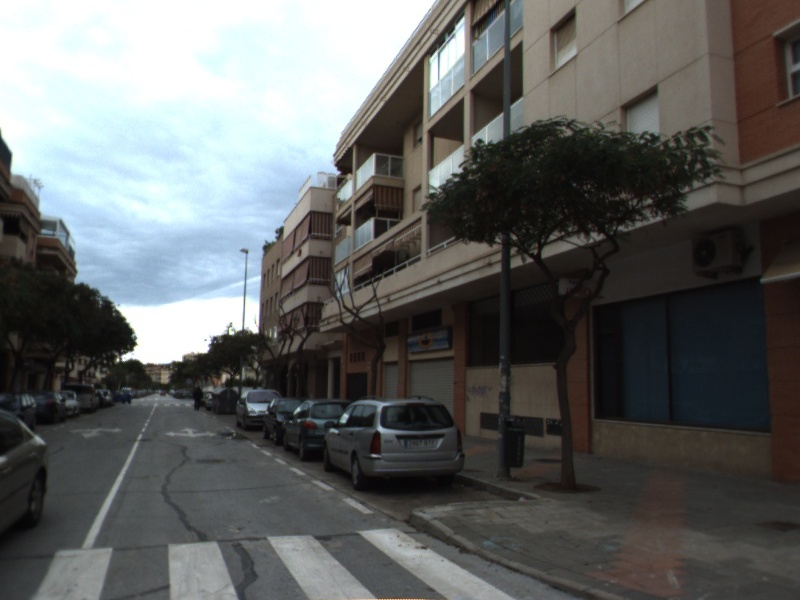STRAIGHT_LEFT_RIGHT: (163, 426, 220, 440)
